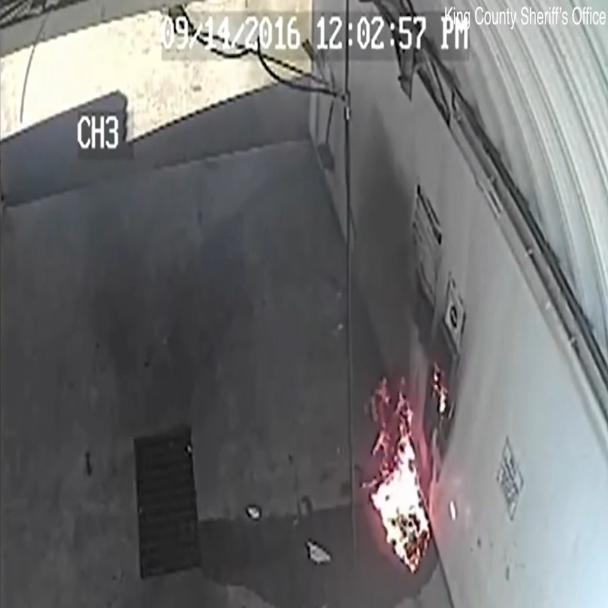Fire: (352, 294, 459, 606)
